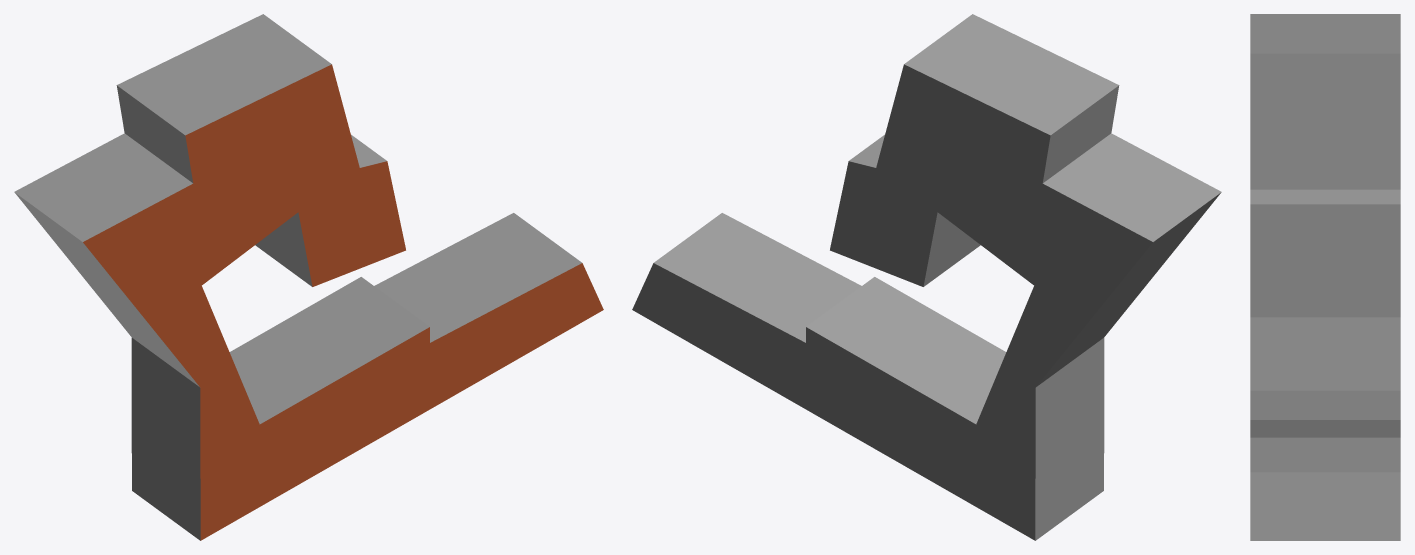
The model's file is construction_2396_assumed_A_Casa_h6m.obj.
3 renders of one model, left to right at view 1: azimuth 30°, elevation 25°; view 2: azimuth 150°, elevation 25°; view 3: azimuth 270°, elevation 25°, orthographic. The views are drawn at different scales.
Parts seen in each view (by area): view 1: construction_2396_assumed_A_Casa; view 2: construction_2396_assumed_A_Casa; view 3: construction_2396_assumed_A_Casa.
Boxes of the visible parts, box(x1,y1,x2,y2) form: construction_2396_assumed_A_Casa: box(14, 14, 603, 540); construction_2396_assumed_A_Casa: box(632, 14, 1221, 540); construction_2396_assumed_A_Casa: box(1250, 14, 1400, 540).
Size of the model in its own units: 26.28 by 21.43 by 6.
